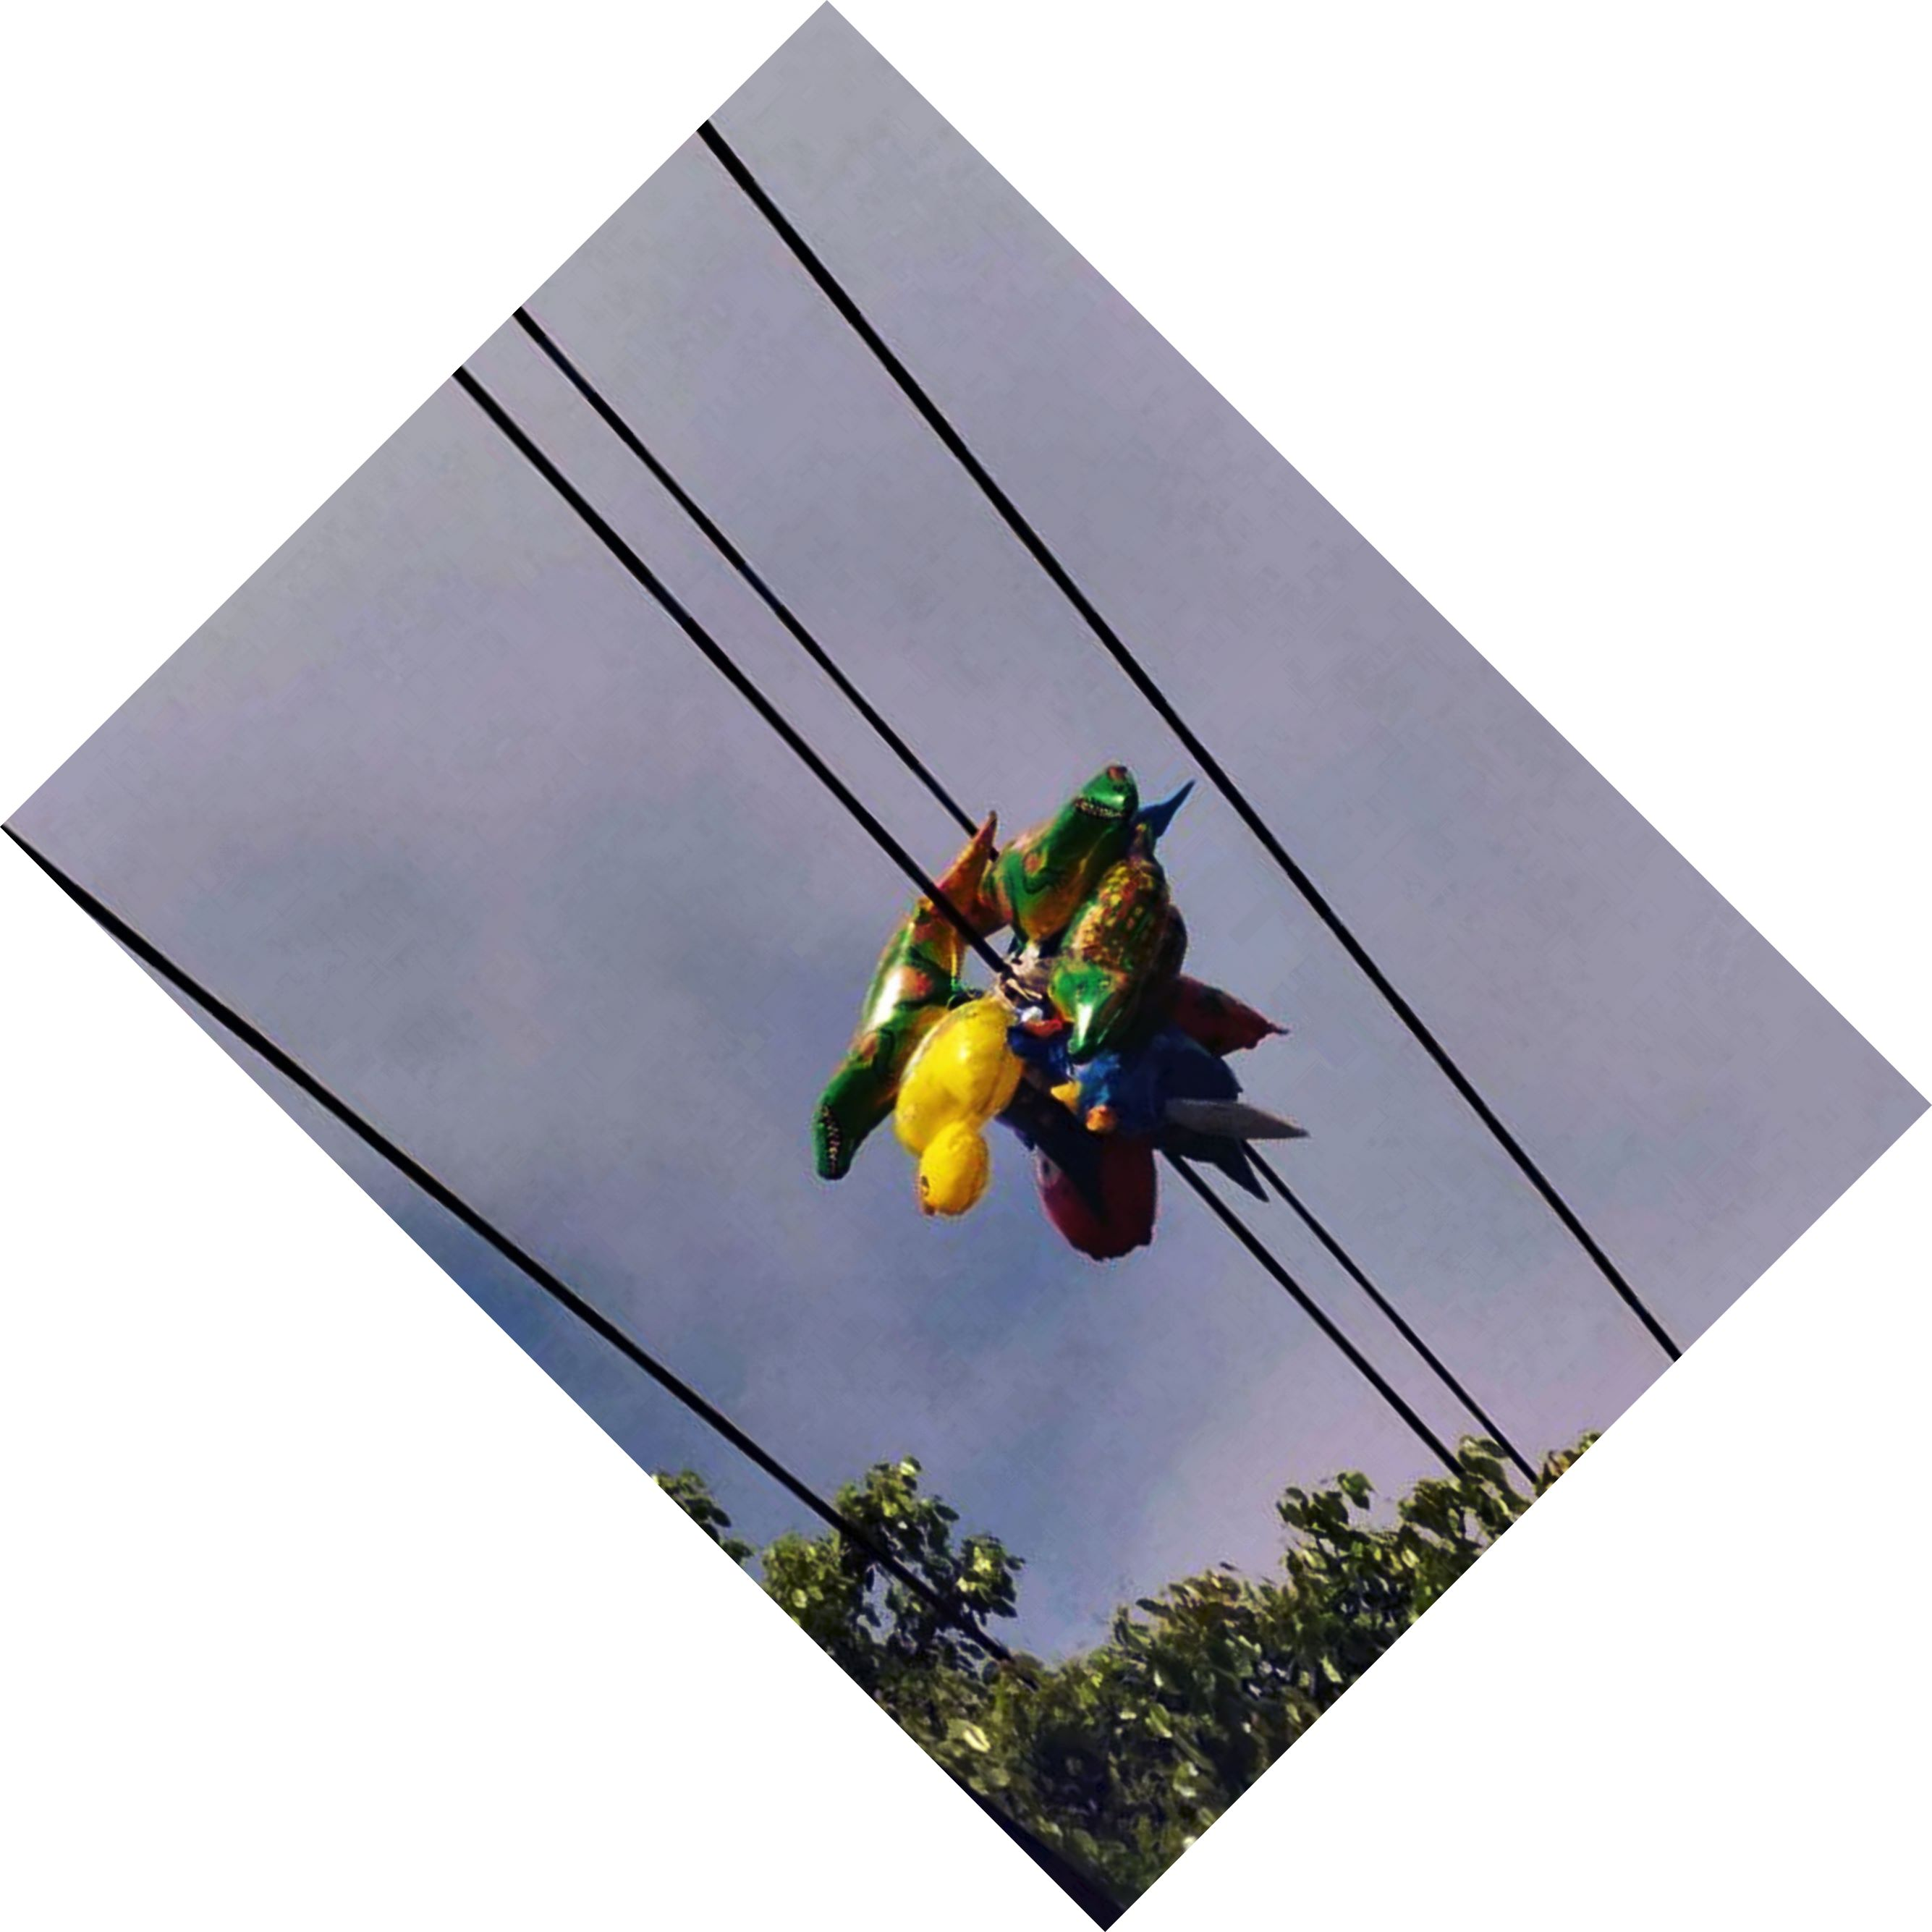wire foreign body: (755, 715, 1295, 1288)
